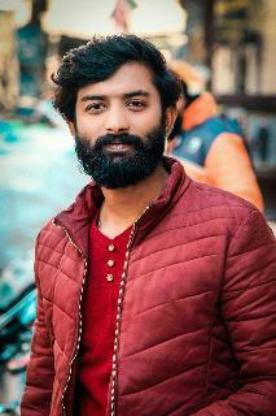person: (12, 26, 276, 415)
